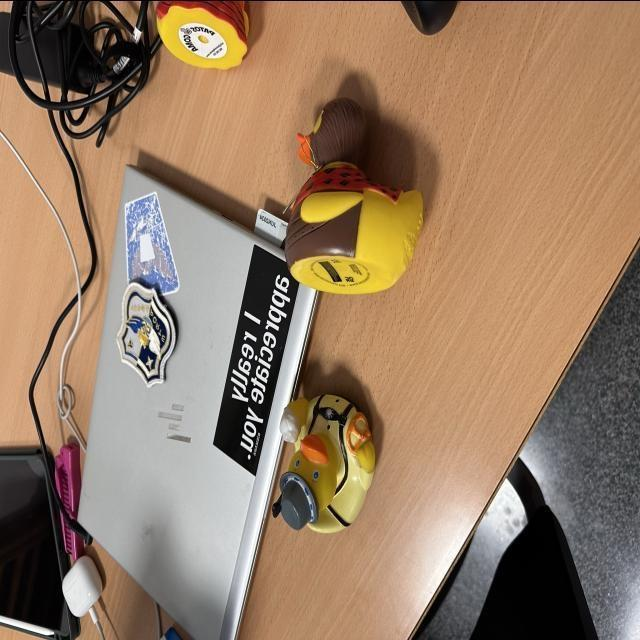rubber-duck: (285, 97, 421, 292), (271, 393, 374, 531), (155, 0, 247, 67)
